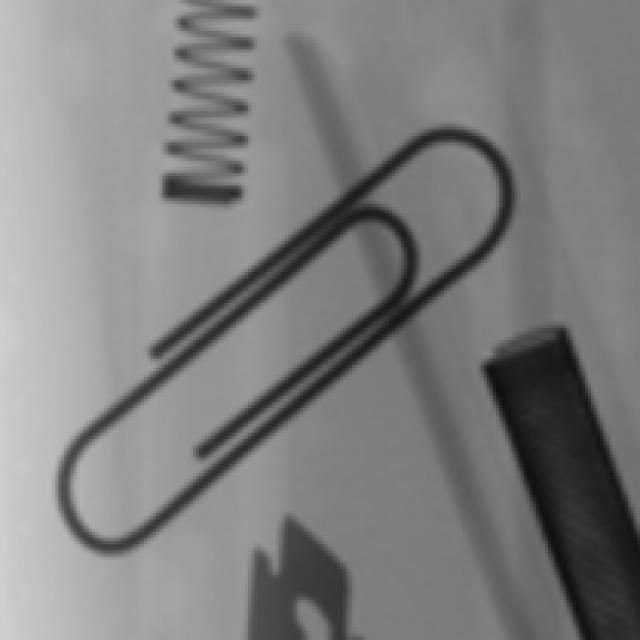GUN: (504, 312, 639, 640)
